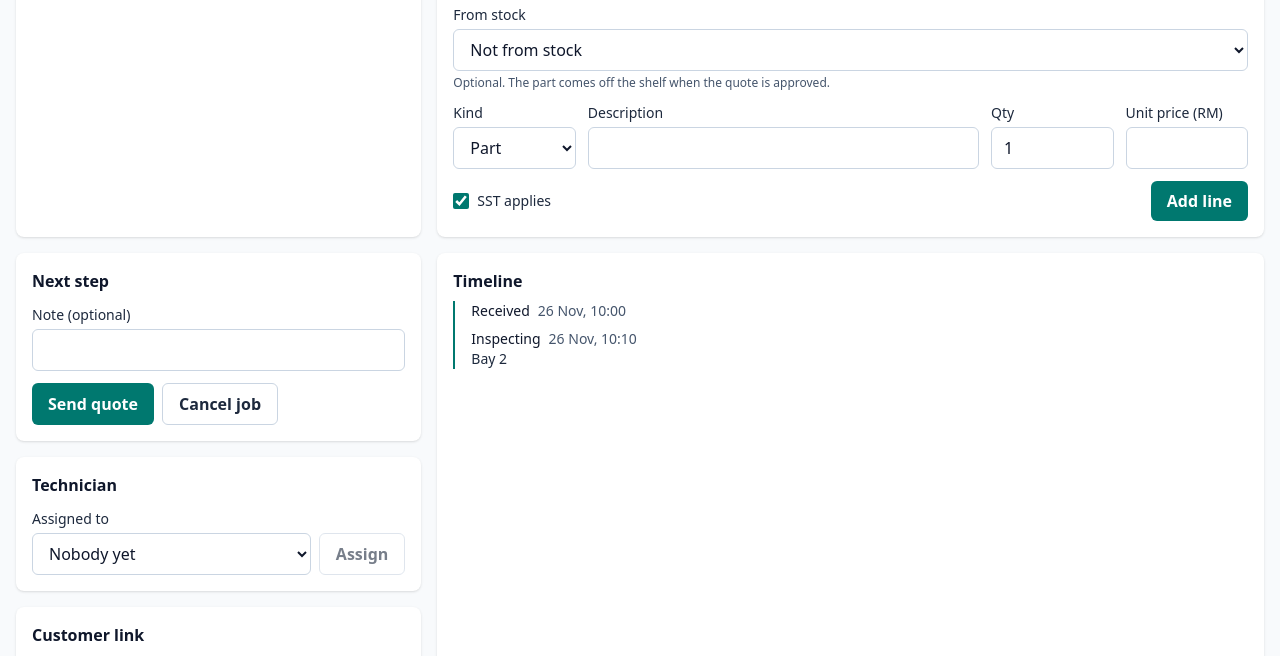
Test: JobPage › moves the job with a note, forward steps first and cancel last
The width and height of the screenshot is (1280, 656).
(page scrolled)
In the field labelled "Note (optional)": (219, 350) x1=32 y1=329 x2=405 y2=371, type " Pads at 2 mm "
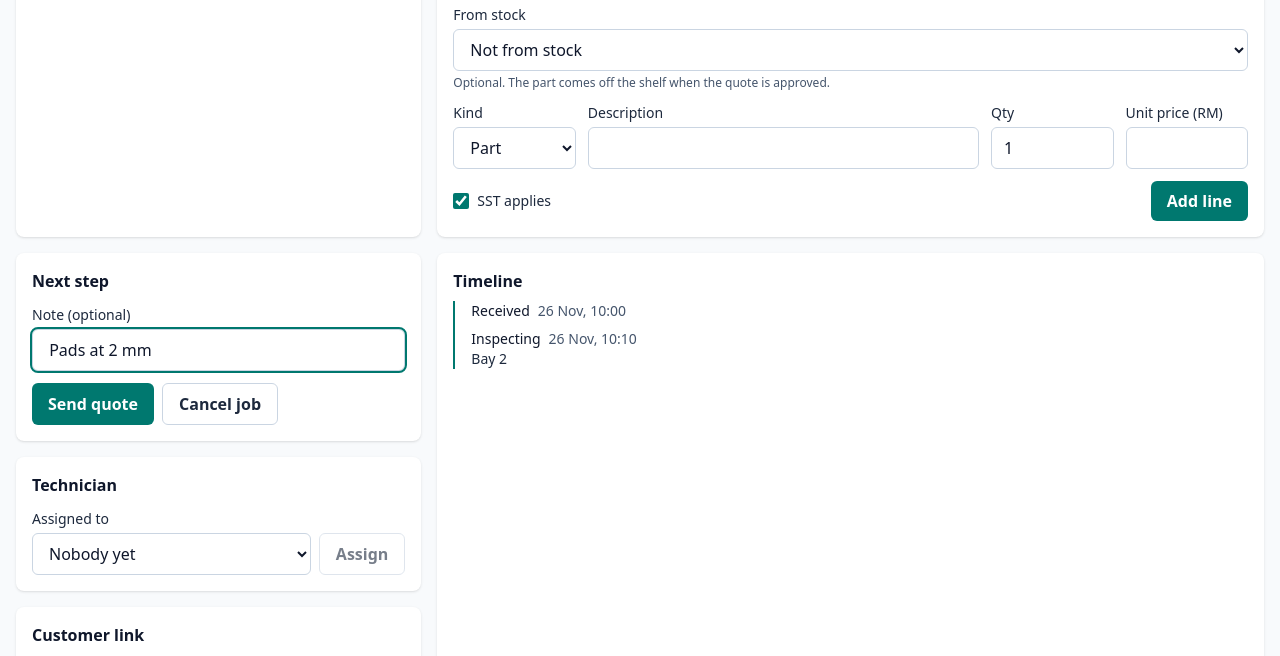
Click the button "Send quote": (93, 404) x1=32 y1=383 x2=154 y2=425
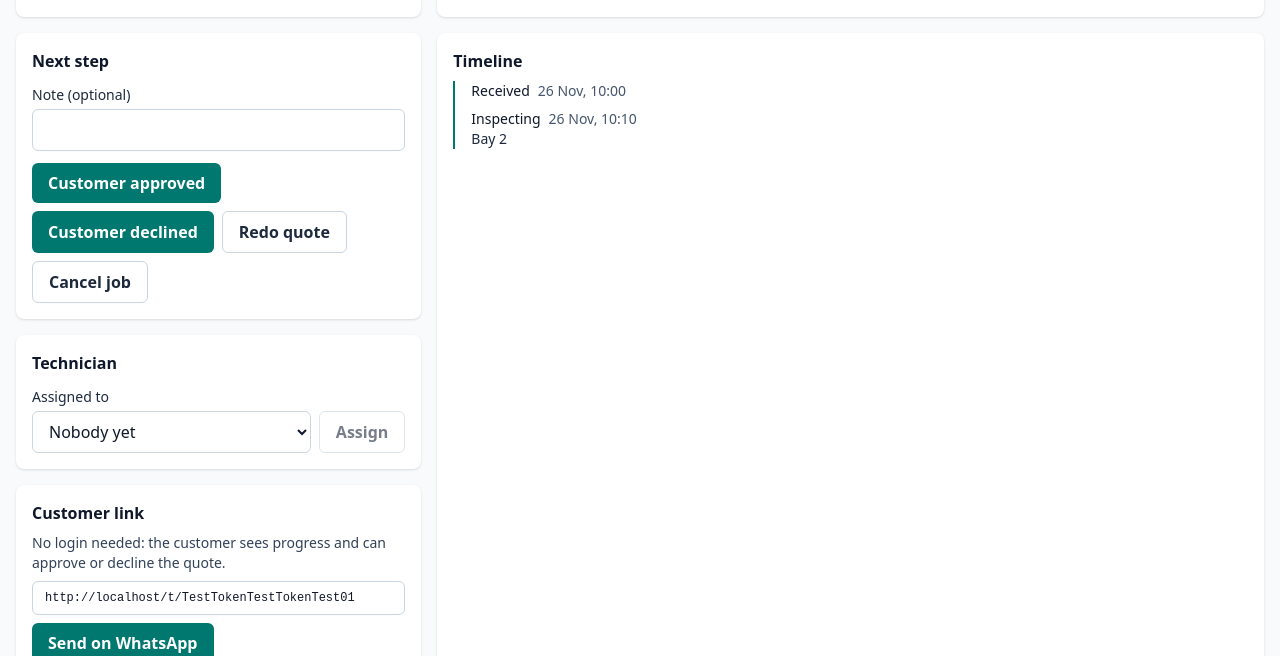
Expected: the button "Add line" is gone
Expected: the button "Customer approved" is shown, x1=32 y1=163 x2=221 y2=203
Expected: the button "Redo quote" is shown, x1=222 y1=211 x2=347 y2=253
